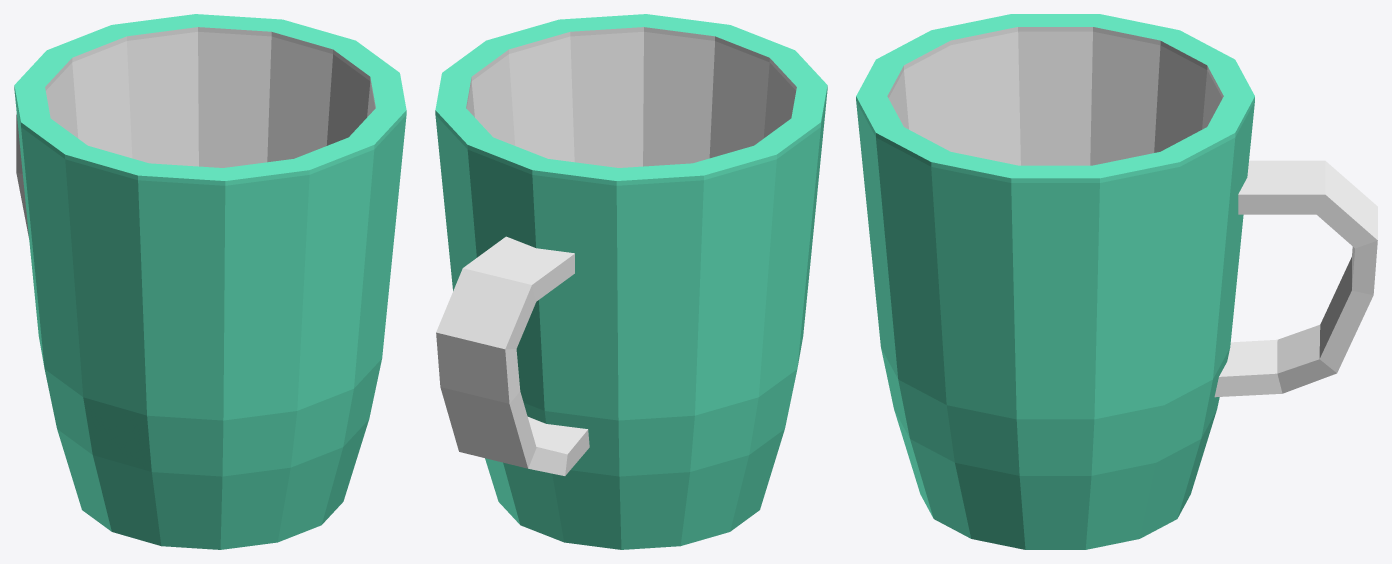
File: teal mug.fbx
3 views of the same model, side by side, from view 1: azimuth 30°, elevation 25°; view 2: azimuth 150°, elevation 25°; view 3: azimuth 270°, elevation 25° (orthographic).
Visible parts, largest first — view 1: Cylinder, Plane.050; view 2: Cylinder, Plane.050; view 3: Cylinder, Plane.050.
Part boxes in pixels (<box>): Cylinder: <box>14,14,406,549</box>; Plane.050: <box>16,114,29,239</box>; Cylinder: <box>435,14,827,549</box>; Plane.050: <box>436,236,589,475</box>; Cylinder: <box>856,14,1254,549</box>; Plane.050: <box>1214,160,1377,397</box>.
Bounding box in the file's own units: 516 × 583 × 693.
